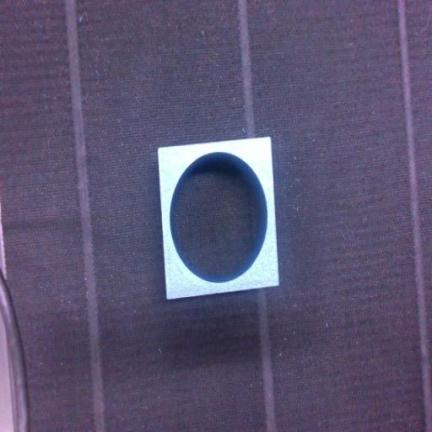square: (159, 138, 278, 298)
